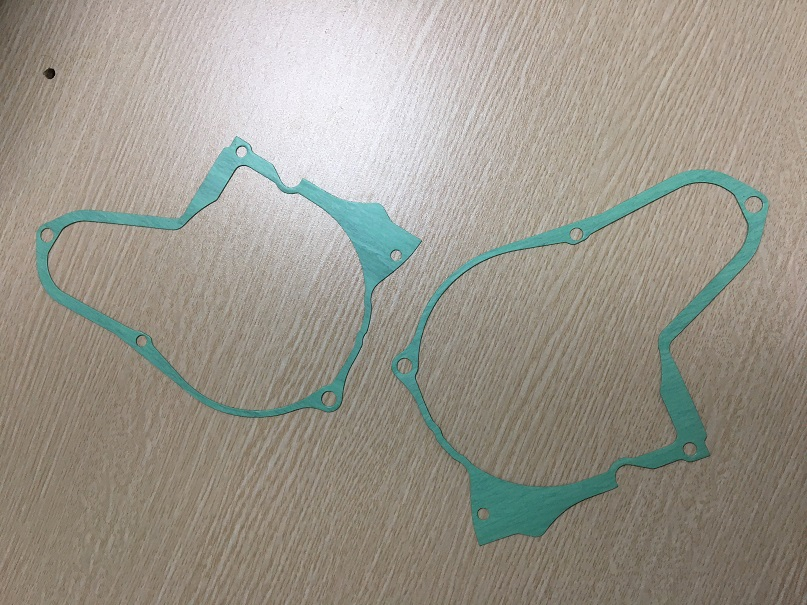type1: (386, 163, 780, 551), (29, 127, 429, 424)
